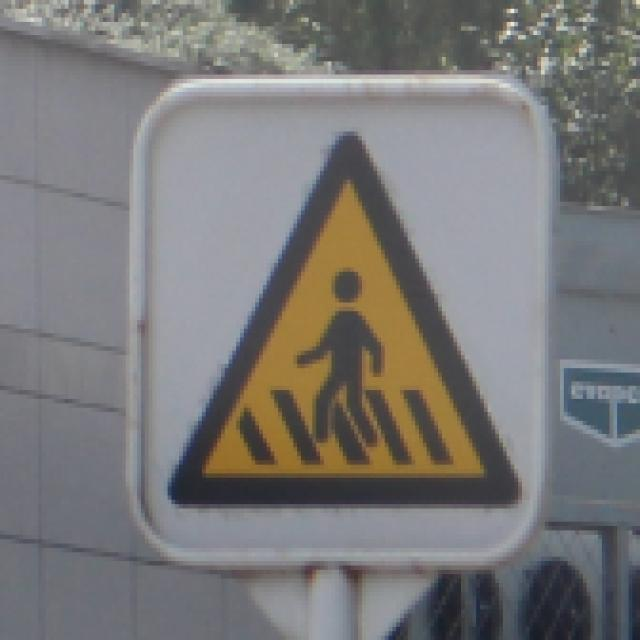Crossing: (158, 105, 532, 531)
